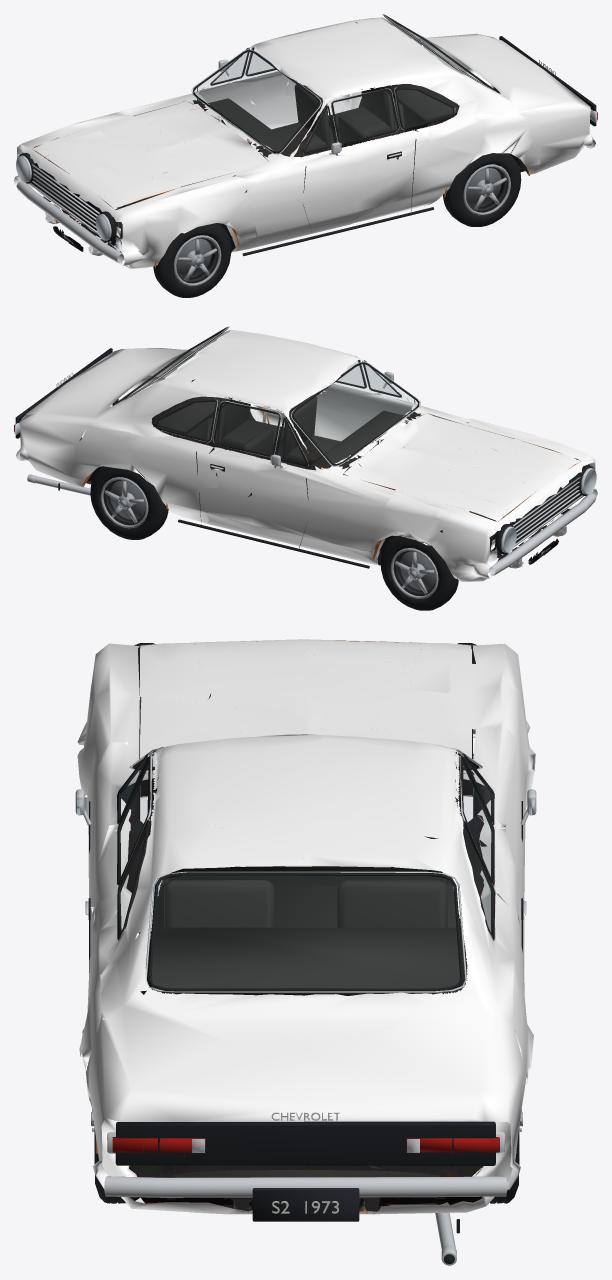
File: chevy-lod2.glb
3 renders of one model, top to bottom at view 1: azimuth 30°, elevation 25°; view 2: azimuth 150°, elevation 25°; view 3: azimuth 270°, elevation 25°, orthographic. The views are drawn at different scales.
Visible parts, largest first — view 1: chevy_Body_paint, chevy_Hood_paint, chevy_static_Vehicle_Glass, chevy_static_Vehicle_Rubber, chevy_CabinSeats_Vehicle_Interior, chevy_static_Vehicle_Chrome, chevy_static_Vehicle_Interior, chevy_Wheel_rearRight_RadialTire, chevy_Wheel_frontRight_RadialTire, chevy_wheel_rearRight_Vehicle_WheelMetal, chevy_wheel_frontRight_Vehicle_WheelMetal, chevy_Body_trim (+4 smaller); view 2: chevy_Body_paint, chevy_Hood_paint, chevy_static_Vehicle_Glass, chevy_static_Vehicle_Rubber, chevy_CabinSeats_Vehicle_Interior, chevy_static_Vehicle_Chrome, chevy_static_Vehicle_Interior, chevy_Wheel_rearLeft_RadialTire, chevy_Wheel_frontLeft_RadialTire, chevy_wheel_rearLeft_Vehicle_WheelMetal, chevy_wheel_frontLeft_Vehicle_WheelMetal, chevy_Wheel_rearLeft_BrakeDisc (+4 smaller); view 3: chevy_Body_paint, chevy_static_Vehicle_Glass, chevy_Hood_paint, chevy_static_Vehicle_Interior, chevy_static_Vehicle_SatinStripe, chevy_static_Vehicle_Chrome, chevy_CabinSeats_Vehicle_Interior, chevy_static_Vehicle_Rubber, chevy_Body_trim, chevy_Plate, chevy_static_Vehicle_BrakeLens.
Boxes of the visible parts, x1,y1,x2,y2 form: chevy_Body_paint: (14, 17, 592, 268); chevy_Hood_paint: (32, 101, 268, 209); chevy_static_Vehicle_Glass: (194, 24, 482, 151); chevy_static_Vehicle_Rubber: (18, 14, 499, 256); chevy_CabinSeats_Vehicle_Interior: (272, 83, 435, 159); chevy_static_Vehicle_Chrome: (16, 14, 597, 263); chevy_static_Vehicle_Interior: (48, 84, 524, 239); chevy_Wheel_rearRight_RadialTire: (443, 153, 521, 226); chevy_Wheel_frontRight_RadialTire: (153, 223, 231, 297); chevy_wheel_rearRight_Vehicle_WheelMetal: (463, 164, 510, 215); chevy_wheel_frontRight_Vehicle_WheelMetal: (173, 235, 221, 286); chevy_Body_trim: (50, 71, 528, 253); chevy_Body_paint: (19, 330, 597, 581); chevy_Hood_paint: (344, 413, 580, 521); chevy_static_Vehicle_Glass: (125, 335, 417, 463); chevy_static_Vehicle_Rubber: (58, 327, 593, 568); chevy_CabinSeats_Vehicle_Interior: (177, 395, 340, 495); chevy_static_Vehicle_Chrome: (14, 326, 596, 575); chevy_static_Vehicle_Interior: (86, 379, 521, 551); chevy_Wheel_rearLeft_RadialTire: (90, 466, 168, 539); chevy_Wheel_frontLeft_RadialTire: (380, 536, 458, 610); chevy_wheel_rearLeft_Vehicle_WheelMetal: (100, 477, 148, 528); chevy_wheel_frontLeft_Vehicle_WheelMetal: (391, 548, 438, 598); chevy_Wheel_rearLeft_BrakeDisc: (110, 480, 145, 519); chevy_Body_paint: (77, 639, 535, 1214); chevy_static_Vehicle_Glass: (120, 755, 491, 987); chevy_Hood_paint: (140, 640, 471, 773); chevy_static_Vehicle_Interior: (139, 774, 467, 1199); chevy_static_Vehicle_SatinStripe: (115, 1121, 495, 1165); chevy_static_Vehicle_Chrome: (83, 713, 528, 1249); chevy_CabinSeats_Vehicle_Interior: (164, 880, 447, 927); chevy_static_Vehicle_Rubber: (88, 643, 523, 1264); chevy_Body_trim: (118, 698, 505, 1214); chevy_Plate: (252, 1188, 359, 1221); chevy_static_Vehicle_BrakeLens: (112, 1137, 499, 1157).
Size of the model in its own units: 1.91 by 0.592 by 0.771.
Materials: 16 (1 with a texture image).
